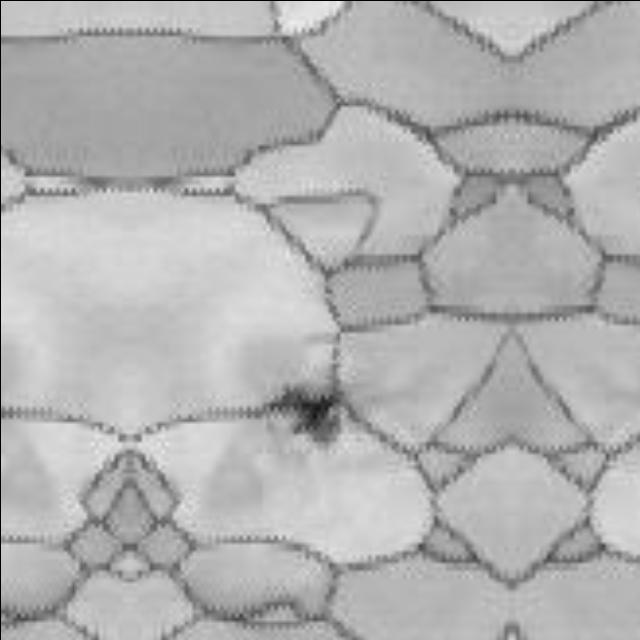good_void: (257, 370, 359, 451)
